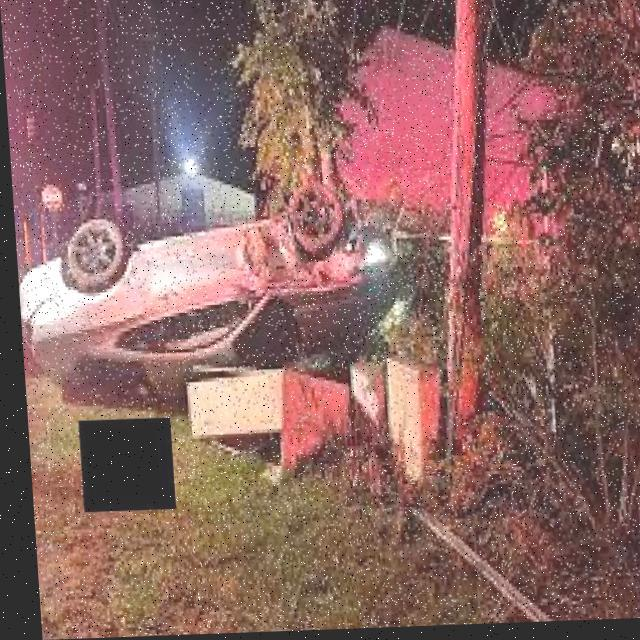single accident: (10, 132, 500, 460)
